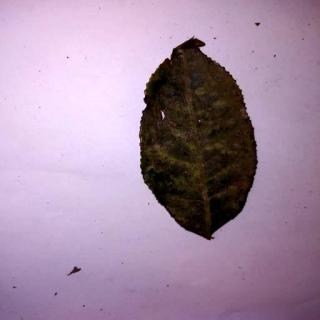Anthracnose: (138, 37, 260, 244)
